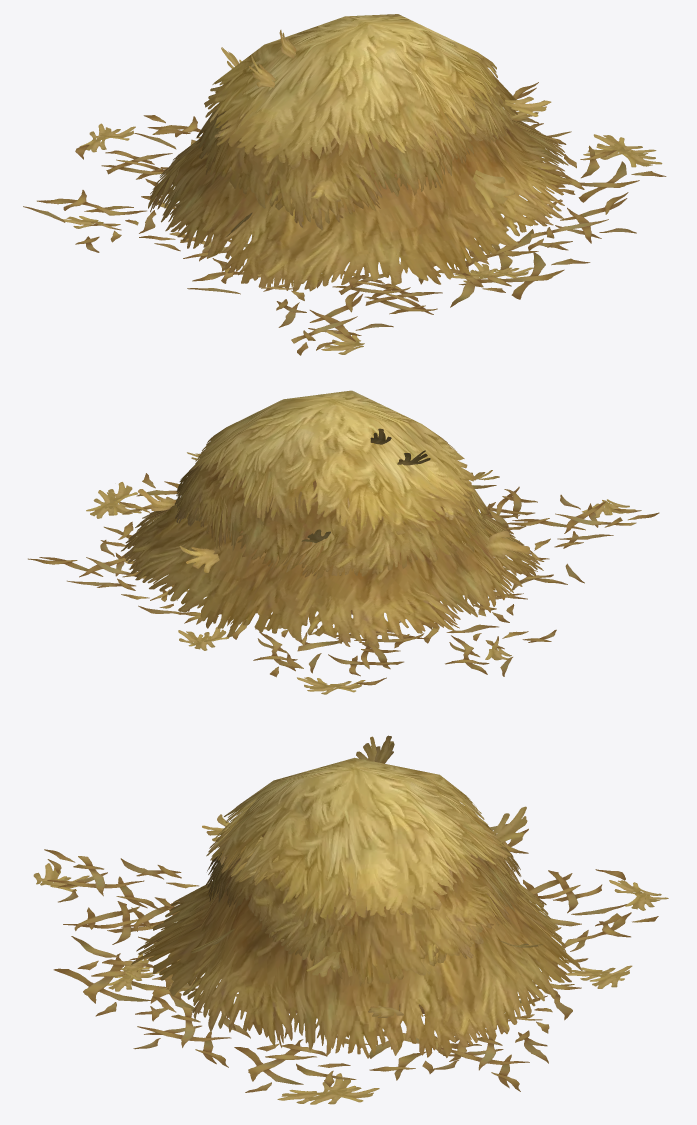
3 renders of one model, top to bottom at view 1: azimuth 30°, elevation 25°; view 2: azimuth 150°, elevation 25°; view 3: azimuth 270°, elevation 25°, orthographic. The views are drawn at different scales.
Bounding box in the file's own units: 4.44 × 1.44 × 4.31.
Materials: 2 (2 with a texture image).
